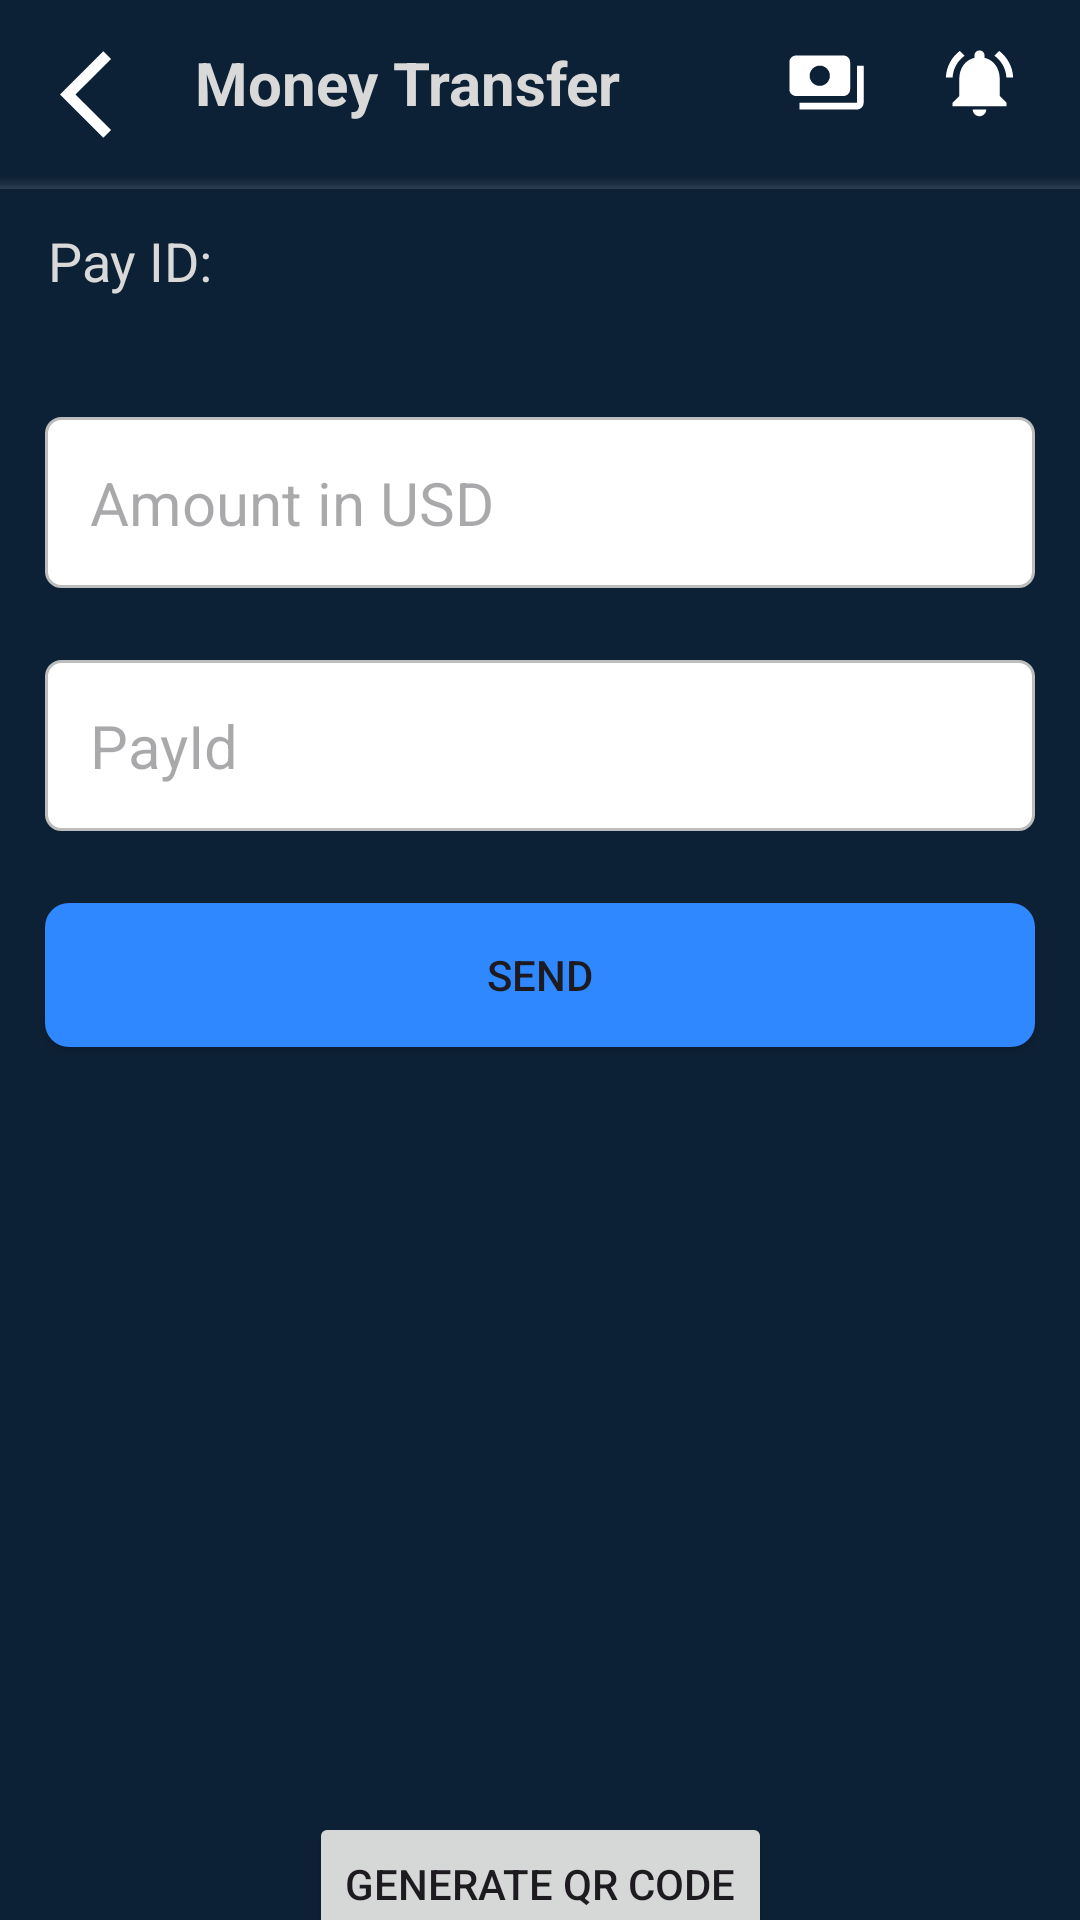

Named icons in this screenshot (1080*1920) and their centers, (x=x, y=y):
arrow back: (x=85, y=94)
notifications: (x=979, y=83)
payments: (x=826, y=82)
